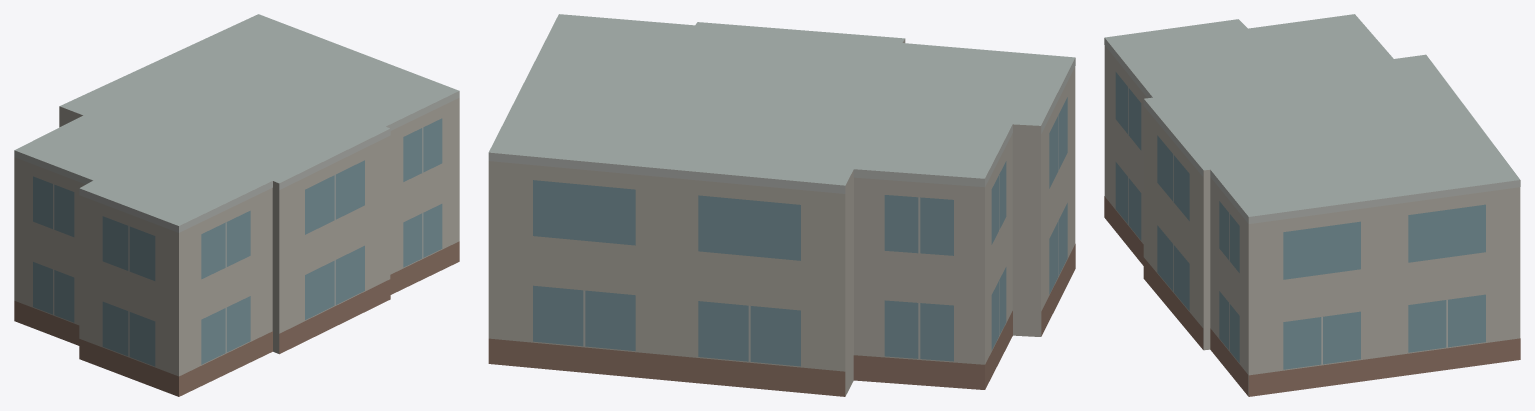
Rendered from survey-upis-32880281.glb.
The picture shows the model from 3 angles, left to right: view 1: azimuth 30°, elevation 25°; view 2: azimuth 150°, elevation 25°; view 3: azimuth 270°, elevation 25°; orthographic projection. The views are drawn at different scales.
Parts seen in each view (by area): view 1: survey-upis-32880281.tmp; view 2: survey-upis-32880281.tmp; view 3: survey-upis-32880281.tmp.
Part boxes in pixels (bbox=[...]): survey-upis-32880281.tmp: bbox=[14, 14, 459, 396]; survey-upis-32880281.tmp: bbox=[488, 14, 1075, 396]; survey-upis-32880281.tmp: bbox=[1104, 14, 1520, 396].
Size of the model in its own units: 14.77 by 6.1 by 12.79.
